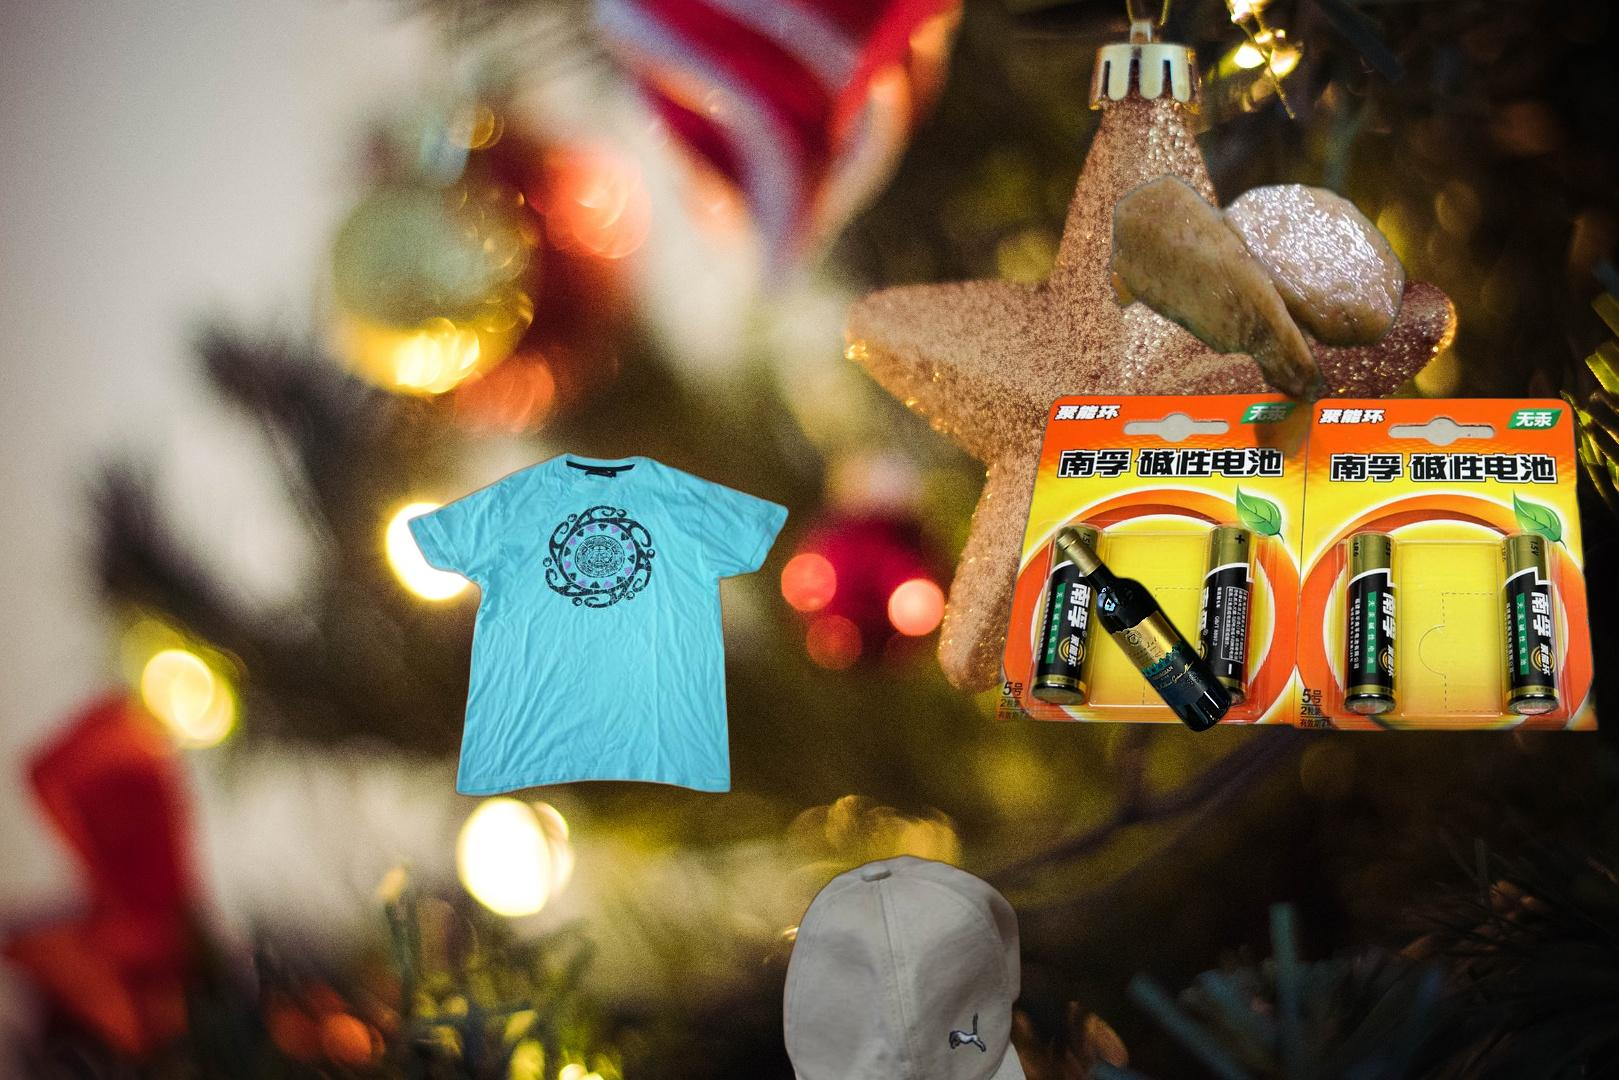battery: (997, 388, 1607, 758)
biological: (1068, 159, 1410, 488)
clothes: (405, 447, 796, 802), (780, 851, 1044, 1080)
glass: (1052, 522, 1237, 739)
